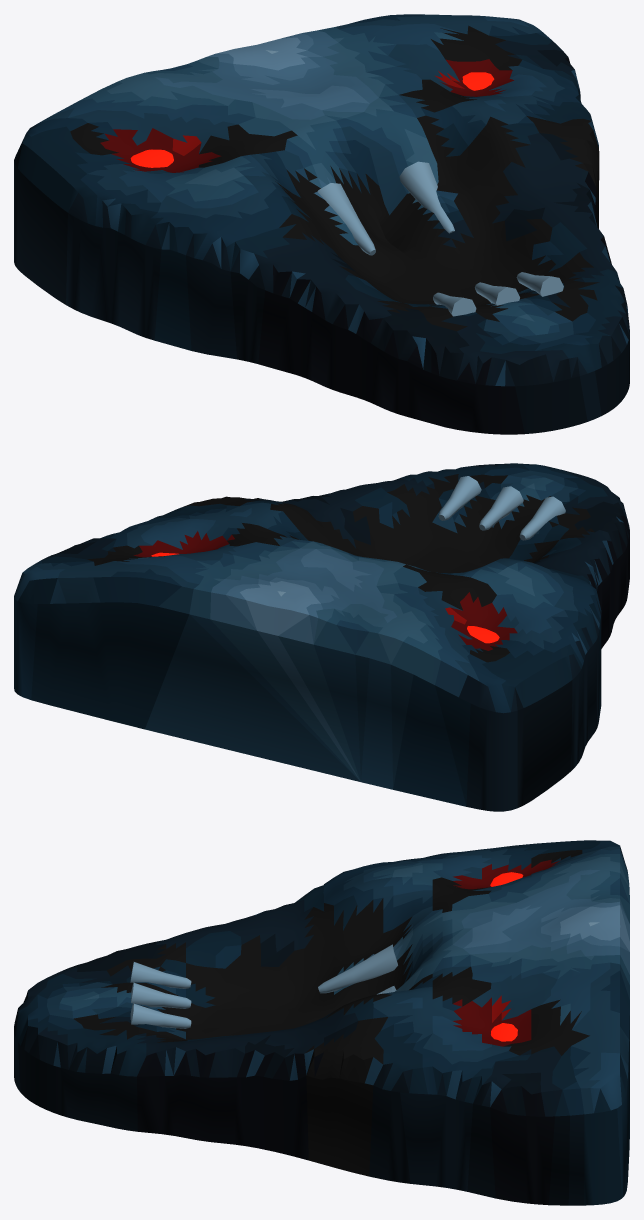
File: gryphon_head_129.glb
The picture shows the model from 3 angles, top to bottom: view 1: azimuth 30°, elevation 25°; view 2: azimuth 150°, elevation 25°; view 3: azimuth 270°, elevation 25°; orthographic projection. The views are drawn at different scales.
Visible parts, largest first — view 1: ghead, ghead_fang+2, ghead_fang-2, ghead_tooth+2, ghead_tooth-0, ghead_eye-8, ghead_tooth-2; view 2: ghead, ghead_tooth-0, ghead_tooth+2, ghead_tooth-2; view 3: ghead, ghead_fang-2, ghead_tooth-0, ghead_tooth+2, ghead_tooth-2.
Part boxes in pixels (x1,y1,x2,y2): ghead: [14, 14, 629, 434]; ghead_fang+2: [399, 161, 454, 233]; ghead_fang-2: [317, 183, 375, 255]; ghead_tooth+2: [516, 272, 563, 296]; ghead_tooth-0: [475, 282, 519, 305]; ghead_eye-8: [130, 149, 173, 167]; ghead_tooth-2: [433, 292, 476, 316]; ghead: [14, 463, 629, 811]; ghead_tooth-0: [479, 486, 523, 530]; ghead_tooth+2: [438, 476, 481, 520]; ghead_tooth-2: [519, 496, 565, 540]; ghead: [14, 840, 629, 1205]; ghead_fang-2: [318, 944, 397, 993]; ghead_tooth-0: [131, 982, 191, 1008]; ghead_tooth+2: [130, 1003, 191, 1028]; ghead_tooth-2: [130, 962, 191, 988].
Size of the model in its own units: 23.99 by 6.85 by 24.97.
